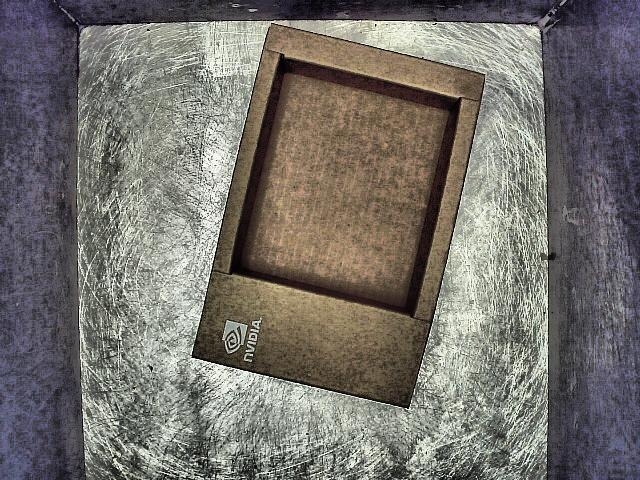Paper: (190, 22, 491, 421)
